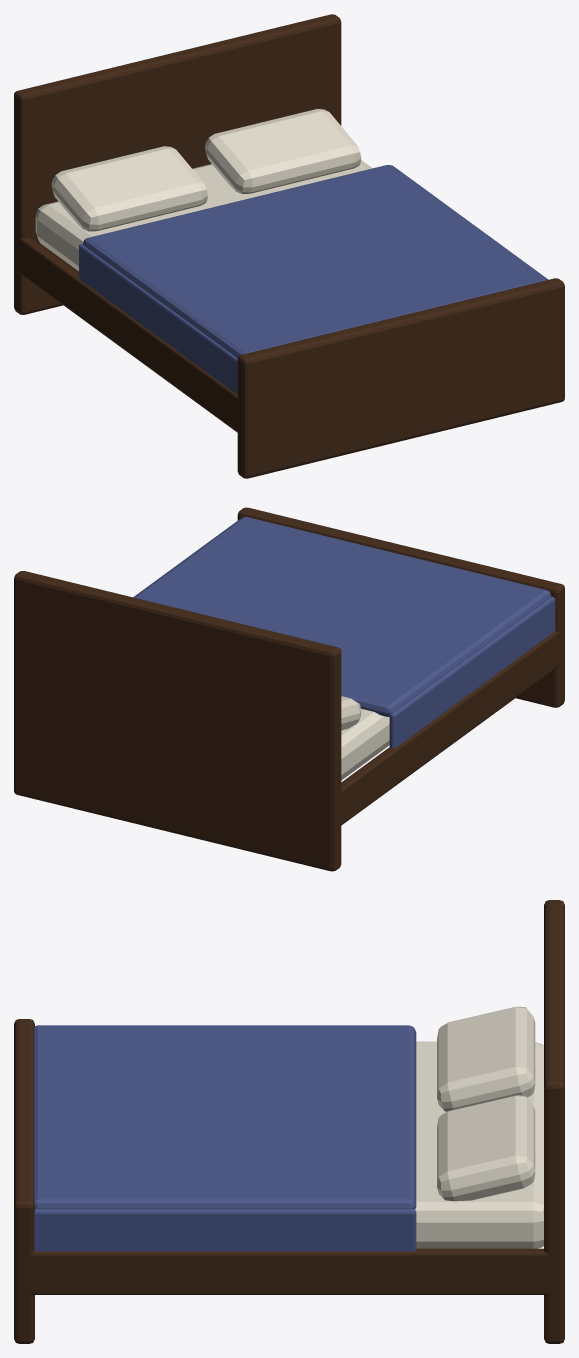
The model's file is bed_double.glb.
The picture shows the model from 3 angles, top to bottom: view 1: azimuth 30°, elevation 25°; view 2: azimuth 150°, elevation 25°; view 3: azimuth 270°, elevation 25°; orthographic projection. The views are drawn at different scales.
Visible parts, largest first — view 1: bed_double; view 2: bed_double; view 3: bed_double.
Boxes of the visible parts, bbox=[...] form: bed_double: bbox=[14, 14, 564, 478]; bed_double: bbox=[14, 507, 564, 871]; bed_double: bbox=[14, 900, 564, 1343].
Bounding box in the file's own units: 1.68 × 1.1 × 2.1.
